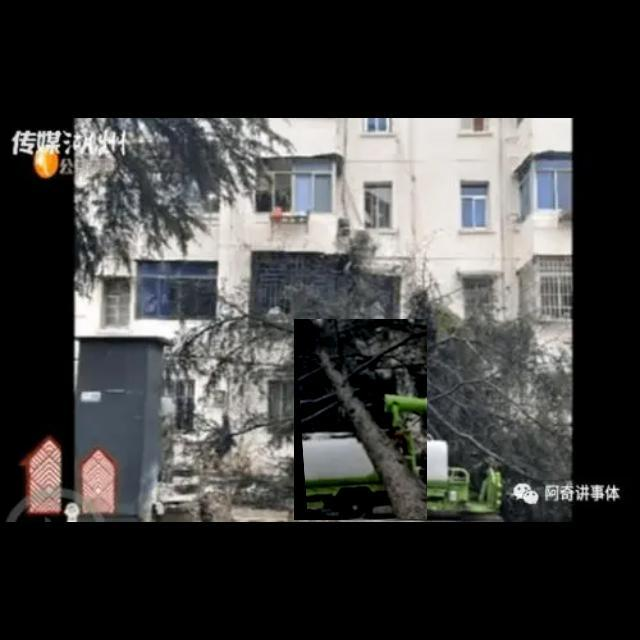fallen_tree: (294, 319, 428, 521)
